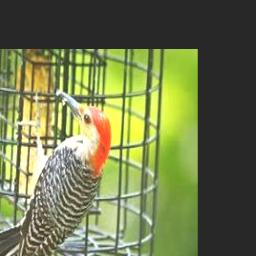Woodpecker: (0, 88, 112, 256)
